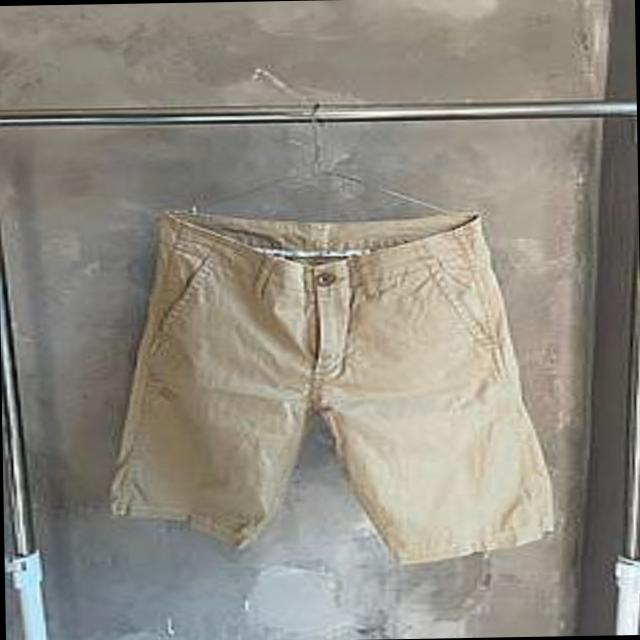SHORT: (95, 199, 570, 570)
